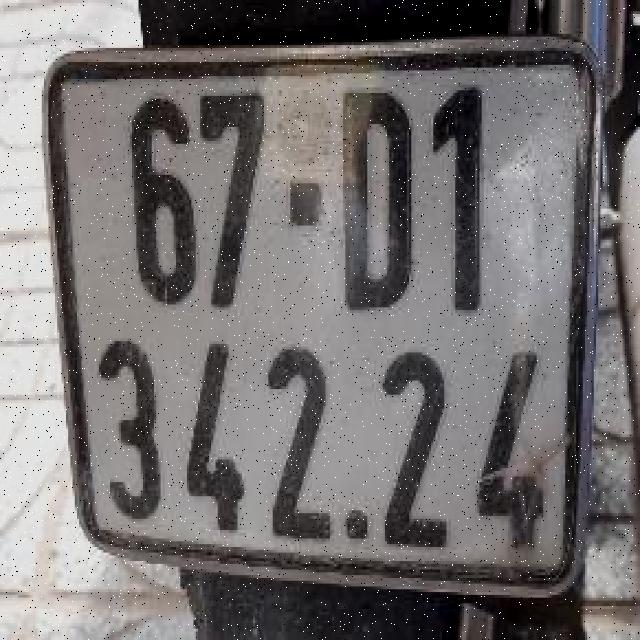1: (429, 77, 501, 323)
2: (377, 341, 454, 567), (270, 328, 338, 566)
3: (95, 334, 167, 529)
4: (179, 331, 265, 543), (472, 348, 548, 563)
6: (110, 86, 200, 323)
7: (202, 70, 270, 316)
D: (329, 55, 430, 323)
